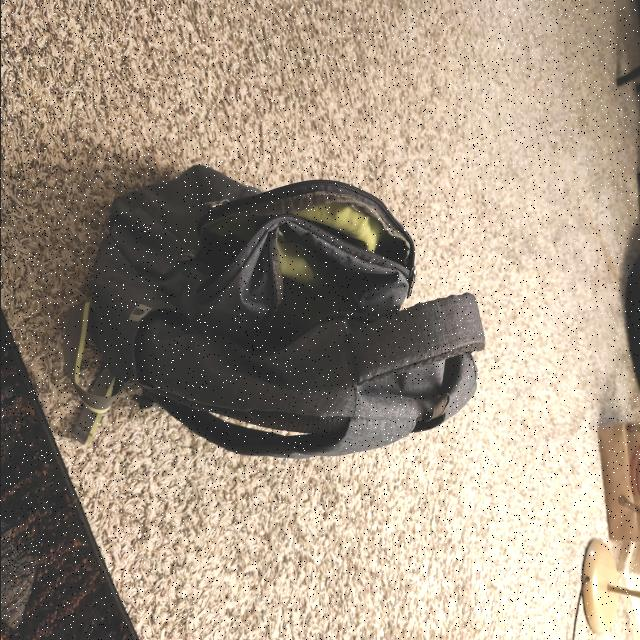bag: (84, 172, 463, 410)
